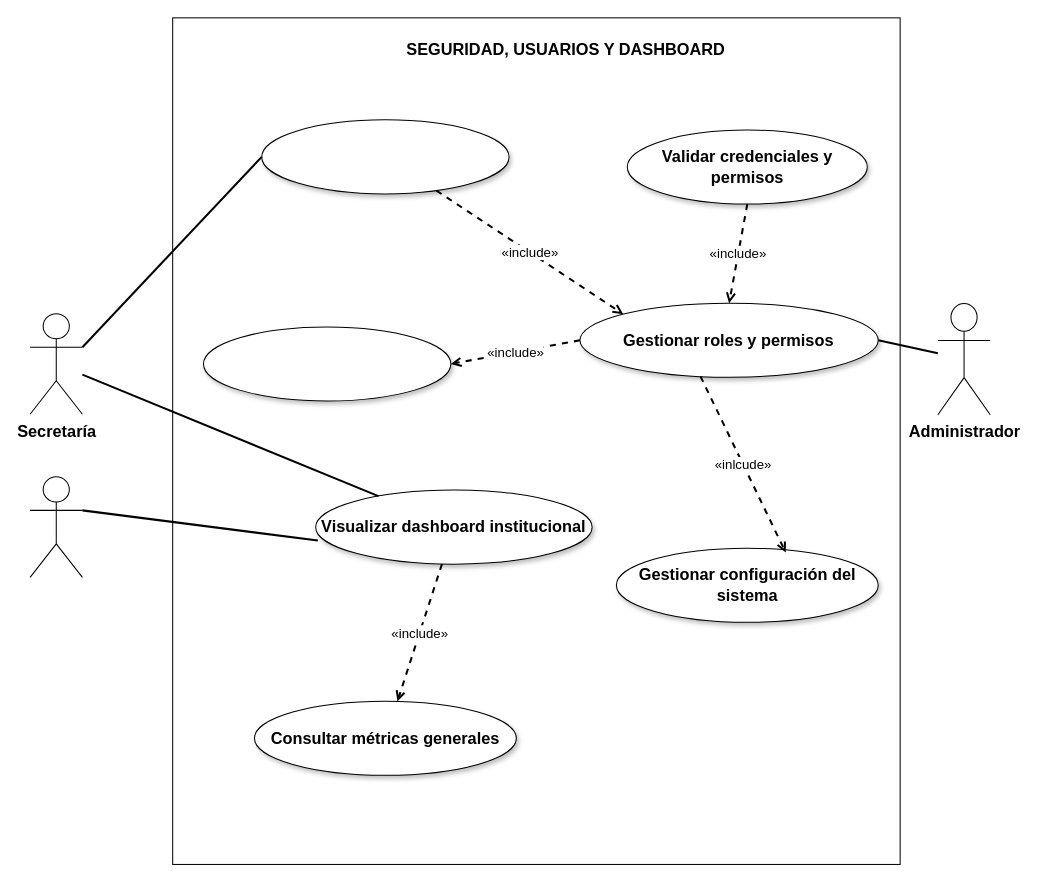
This 1037x893 diagram has some shape labels left out. The centre of each missing label's shape, as x and y in pixels:
"Docente" goes at (x=55, y=526).
"Gestionar usuarios" goes at (x=327, y=365).
"Iniciar sesión seguro" goes at (x=386, y=158).
